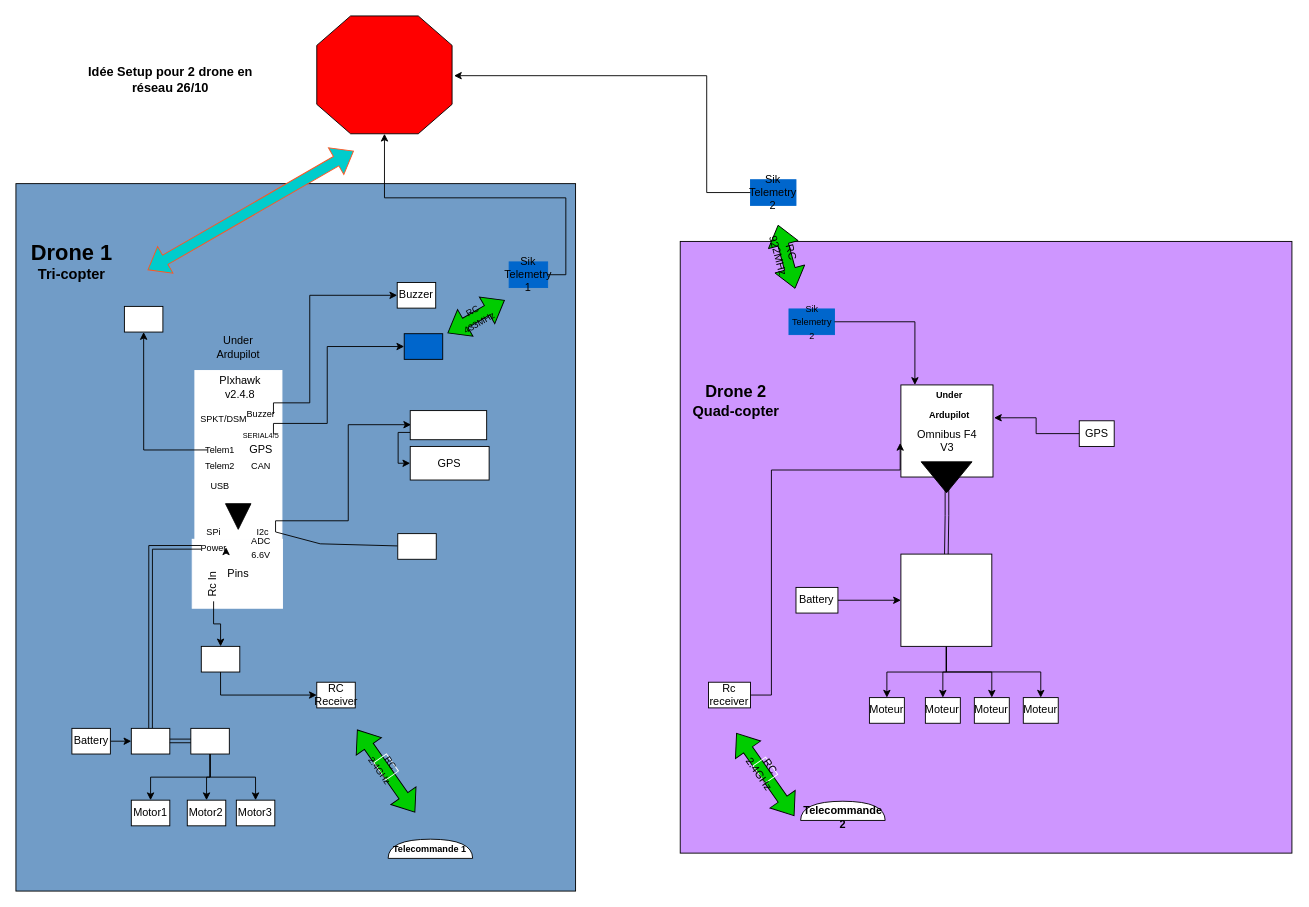
The diagram is 1309 pixels wide and 907 high, and some of its shapes have lost their labels. Each missing label, with the box of its shape:
Airspeed sensor: (397, 533, 436, 559)
ESC: (190, 727, 229, 754)
ESC 4in1: (900, 553, 992, 646)
PC: (316, 15, 452, 134)
Power module: (130, 727, 170, 754)
PPM Sum receiver: (200, 645, 240, 672)
Raspberri Pi: (123, 305, 163, 332)
remote id identifier: (409, 410, 487, 440)
Sik Telemertry 1: (403, 333, 443, 359)
Wifi: (139, 137, 361, 283)
